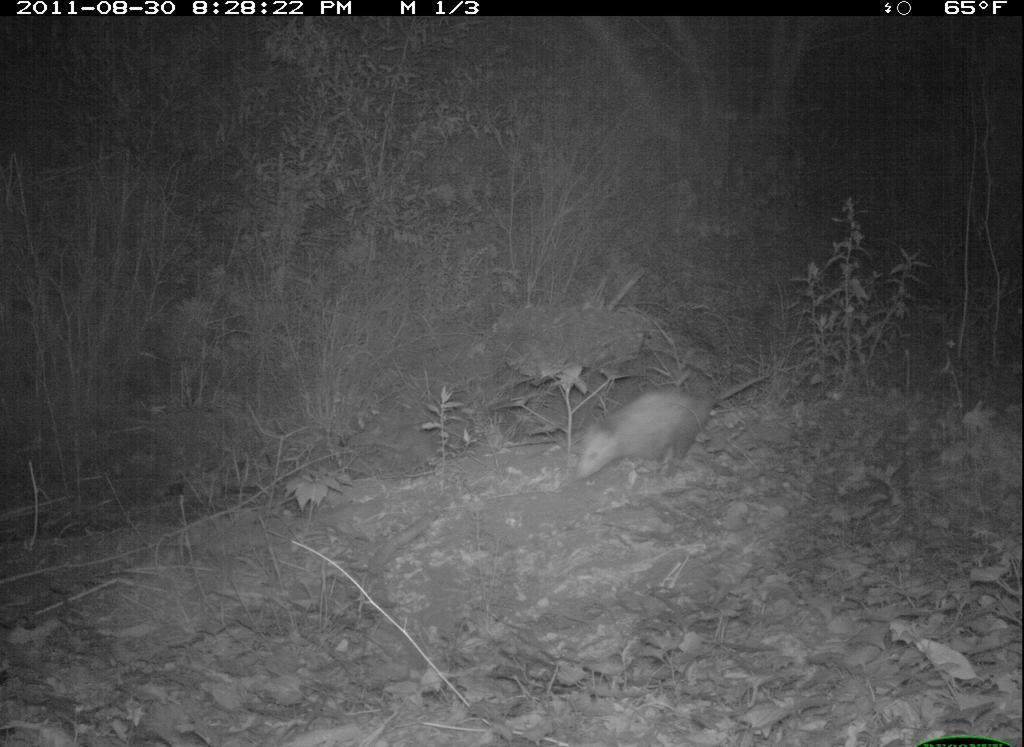opossum: (565, 354, 785, 489)
